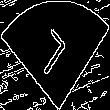L_SW: (34, 25, 76, 85)
